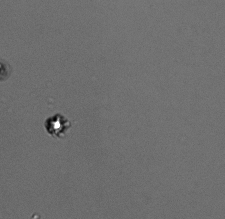Dead Cell: (1, 60, 9, 81)
Living Cell: (45, 114, 67, 136)
